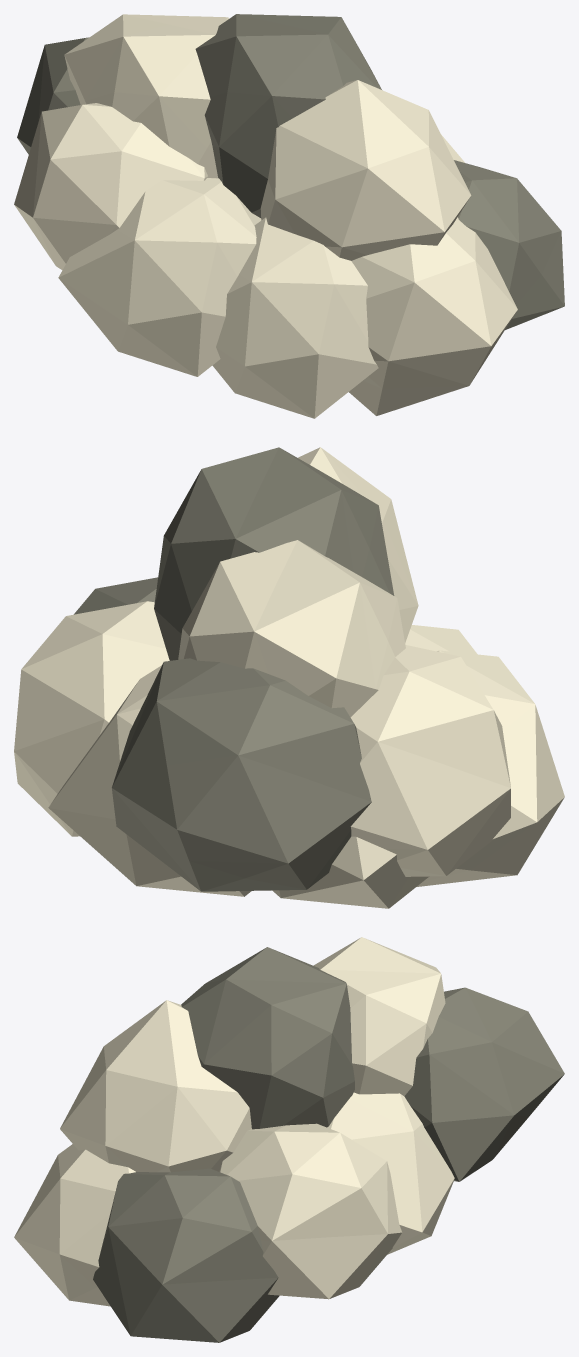
File: cloud_2.FBX
The picture shows the model from 3 angles, top to bottom: view 1: azimuth 30°, elevation 25°; view 2: azimuth 150°, elevation 25°; view 3: azimuth 270°, elevation 25°; orthographic projection. The views are drawn at different scales.
Visible parts, largest first — view 1: cloud_2; view 2: cloud_2; view 3: cloud_2.
Boxes of the visible parts, x1,y1,x2,y2 form: cloud_2: (14, 14, 564, 418); cloud_2: (14, 447, 564, 908); cloud_2: (14, 937, 564, 1342).
Size of the model in its own units: 1150 by 863 by 1305.
